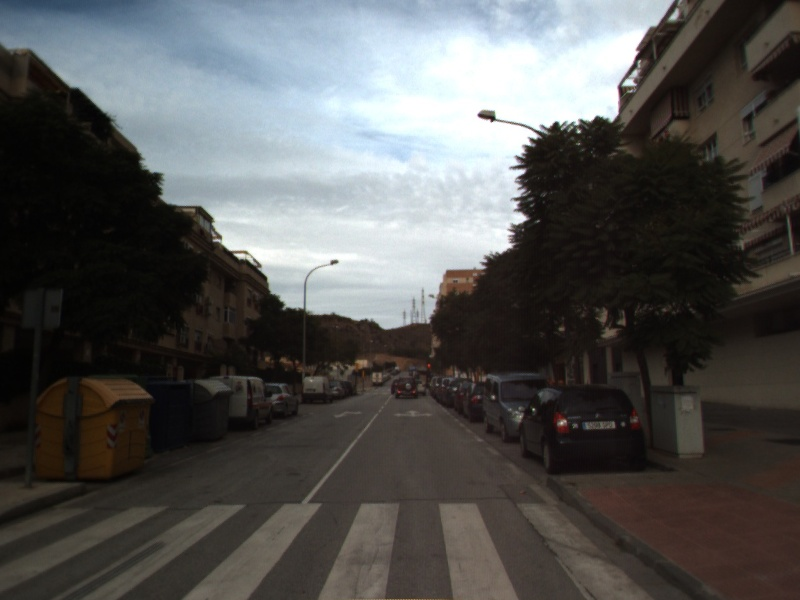STRAIGHT_LEFT_RIGHT: (392, 408, 435, 419)
